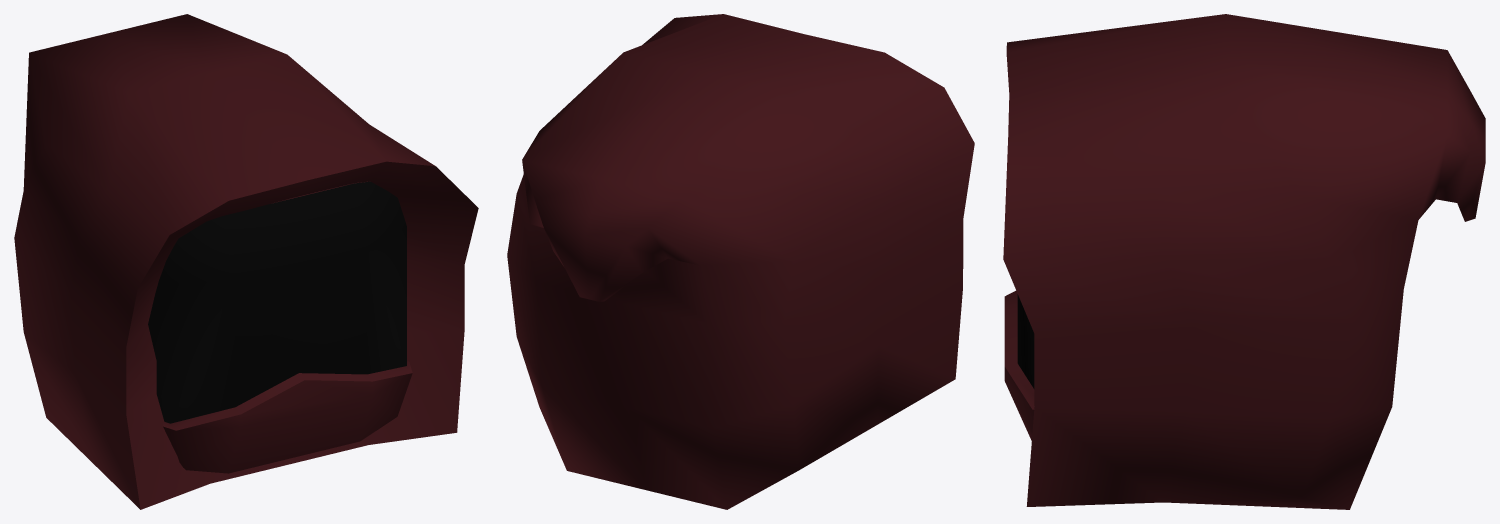
The model's file is SM_RogueHead.fbx.
The picture shows the model from 3 angles, left to right: view 1: azimuth 30°, elevation 25°; view 2: azimuth 150°, elevation 25°; view 3: azimuth 270°, elevation 25°; orthographic projection. The views are drawn at different scales.
Visible parts, largest first — view 1: SM_RogueHead; view 2: SM_RogueHead; view 3: SM_RogueHead.
Part boxes in pixels (left/top/right/bottom): SM_RogueHead: left=14, top=14, right=478, bottom=509; SM_RogueHead: left=507, top=14, right=974, bottom=509; SM_RogueHead: left=1003, top=14, right=1485, bottom=509.
Size of the model in its own units: 161 by 169 by 180.
